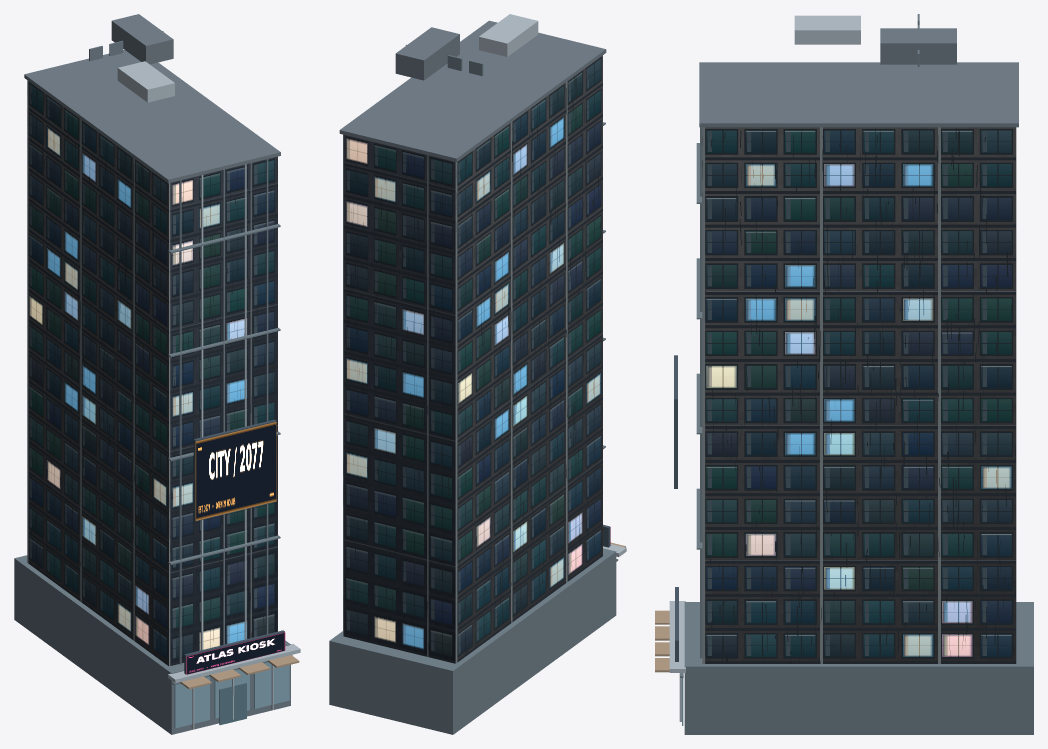
Rendered from building_01.glb.
3 views of the same model, side by side, from view 1: azimuth 30°, elevation 25°; view 2: azimuth 150°, elevation 25°; view 3: azimuth 270°, elevation 25° (orthographic). The views are drawn at different scales.
Visible parts, largest first — view 1: facade_sideb_3, facade_0, roof, frame, ad_9, alum, glass, sign_8, wood, dark, tint, concrete; view 2: facade_sideb_3, facade_back_1, frame, roof, alum, concrete; view 3: facade_side_2, frame, roof, alum, wood, dark.
Part boxes in pixels (left/top/right/bottom): facade_sideb_3: left=27, top=80, right=168, bottom=665; facade_0: left=169, top=156, right=277, bottom=666; roof: left=24, top=14, right=280, bottom=183; frame: left=14, top=31, right=292, bottom=734; ad_9: left=195, top=422, right=276, bottom=520; alum: left=117, top=61, right=300, bottom=729; glass: left=174, top=662, right=289, bottom=728; sign_8: left=186, top=632, right=285, bottom=674; wood: left=180, top=655, right=299, bottom=689; dark: left=184, top=419, right=284, bottom=674; tint: left=219, top=682, right=246, bottom=725; concrete: left=169, top=183, right=169, bottom=665; facade_sideb_3: left=456, top=55, right=602, bottom=663; facade_back_1: left=343, top=134, right=455, bottom=663; frame: left=329, top=44, right=618, bottom=734; roof: left=339, top=20, right=606, bottom=162; alum: left=479, top=14, right=626, bottom=556; concrete: left=455, top=162, right=455, bottom=663; facade_side_2: left=702, top=127, right=1016, bottom=663; frame: left=680, top=14, right=1033, bottom=734; roof: left=699, top=28, right=1018, bottom=127; alum: left=669, top=15, right=860, bottom=721; wood: left=655, top=610, right=669, bottom=672; dark: left=674, top=355, right=678, bottom=661.
Bounding box in the file's own units: 16.2 × 75.2 × 38.18.
20 materials, 10 textured.
